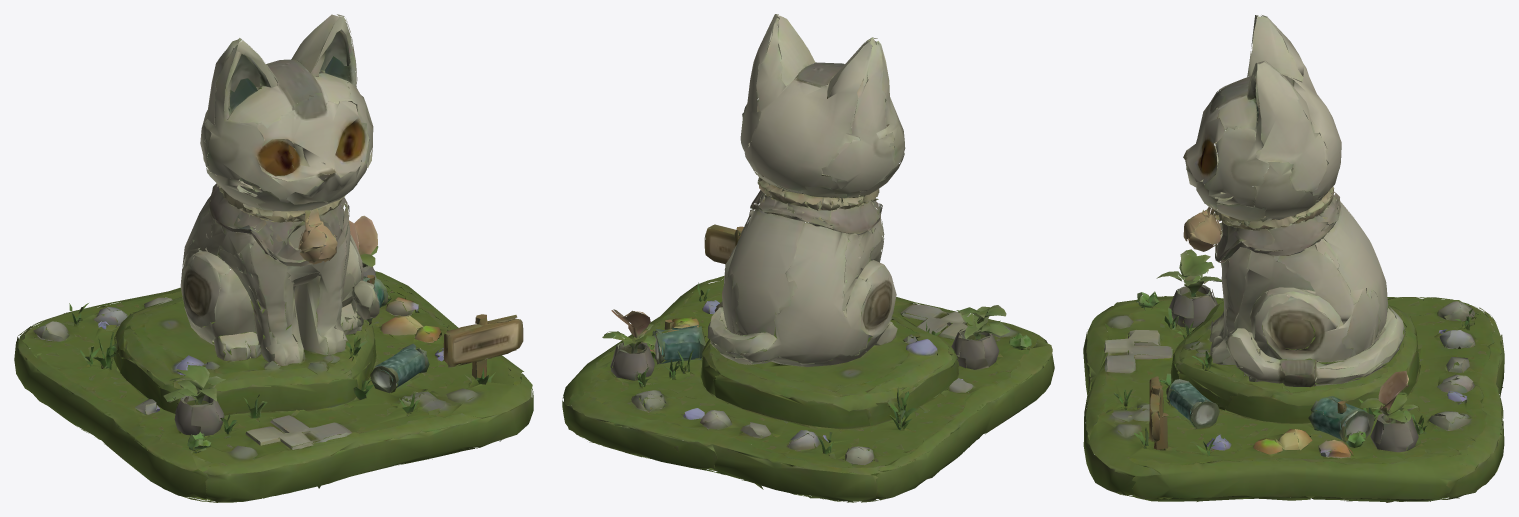
File: kuching-home.glb
The picture shows the model from 3 angles, left to right: view 1: azimuth 30°, elevation 25°; view 2: azimuth 150°, elevation 25°; view 3: azimuth 270°, elevation 25°; orthographic projection. The views are drawn at different scales.
Visible parts, largest first — view 1: geometry_0.007; view 2: geometry_0.007; view 3: geometry_0.007.
Part boxes in pixels (bbox=[...]): geometry_0.007: bbox=[14, 14, 533, 502]; geometry_0.007: bbox=[562, 14, 1054, 502]; geometry_0.007: bbox=[1083, 15, 1504, 502].
Size of the model in its own units: 1.01 by 1 by 1.01.
1 material, 1 textured.
